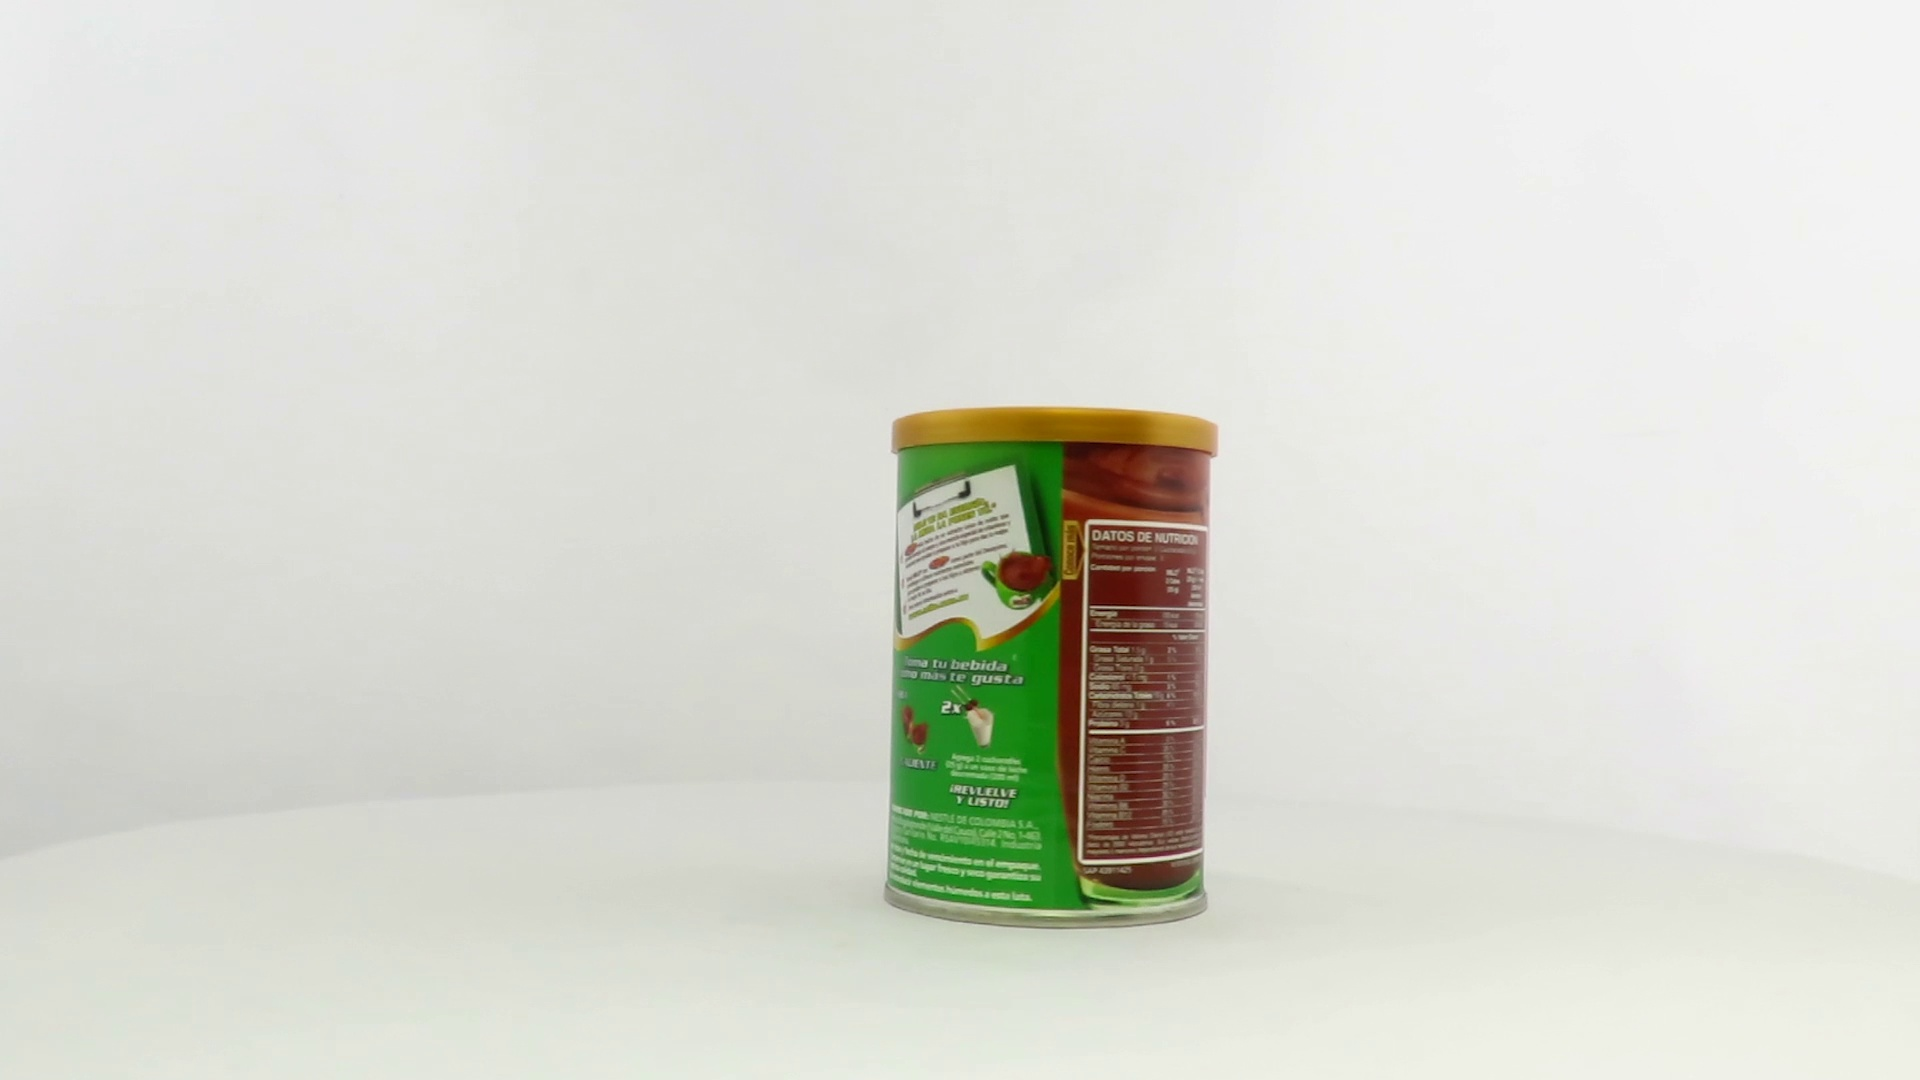COL0170203LAT20000: (878, 401, 1225, 936)
